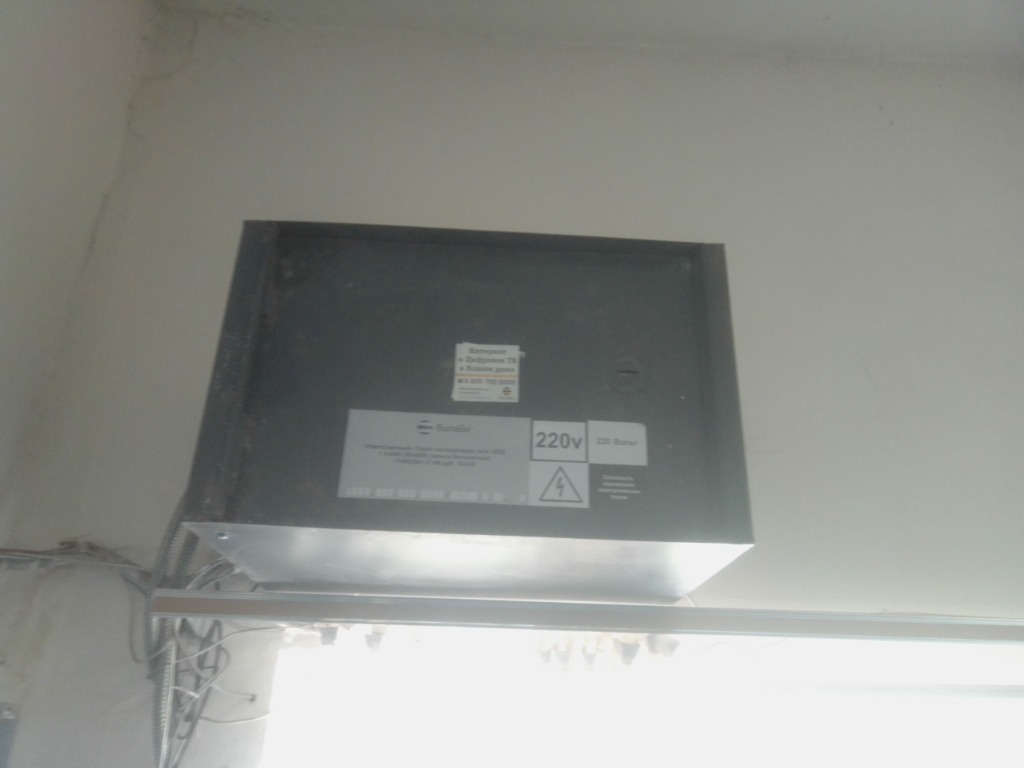e2-6u: (171, 198, 770, 613)
